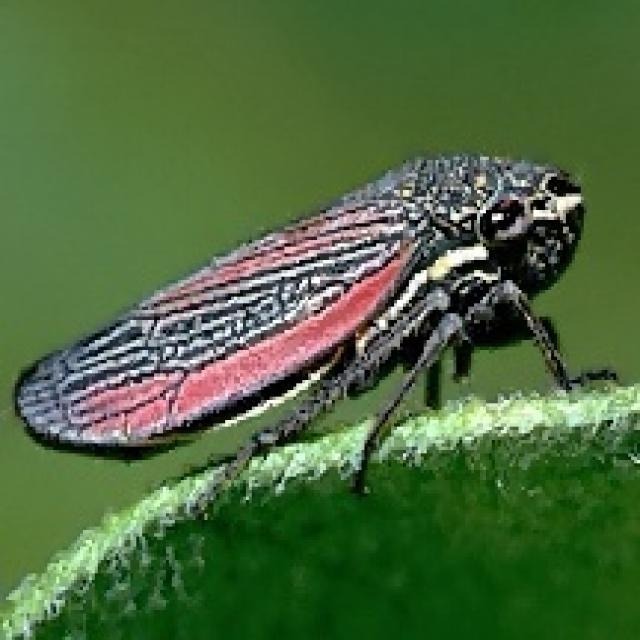Yechan: (3, 140, 616, 494)
